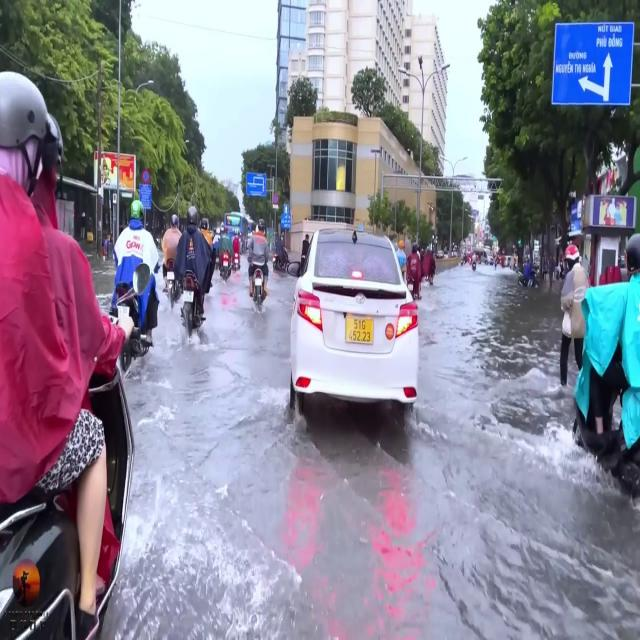bien_vang: (344, 314, 374, 346)
